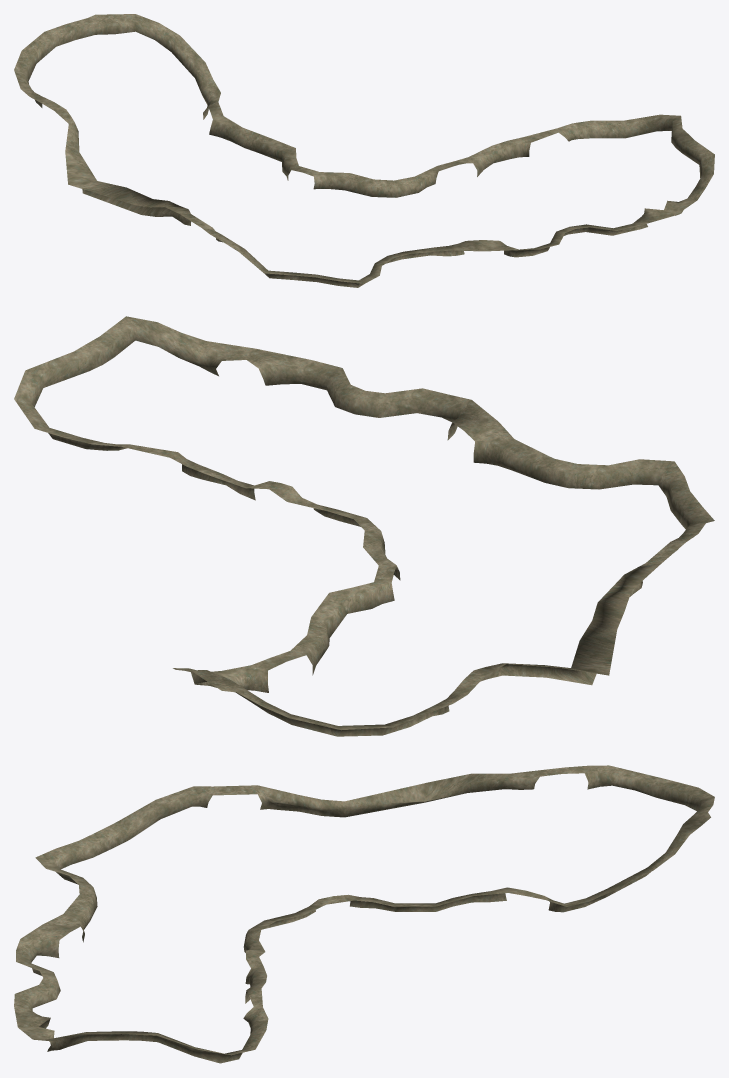
The model's file is EKH_JAIL_PS_JA_PATH_TRIM9383837.fbx.
3 views of the same model, one above another, from view 1: azimuth 30°, elevation 25°; view 2: azimuth 150°, elevation 25°; view 3: azimuth 270°, elevation 25° (orthographic). The views are drawn at different scales.
Parts seen in each view (by area): view 1: EKH_JAIL_PS_JA_PATH_TRIM9383837; view 2: EKH_JAIL_PS_JA_PATH_TRIM9383837; view 3: EKH_JAIL_PS_JA_PATH_TRIM9383837.
Boxes of the visible parts, bbox=[...] form: EKH_JAIL_PS_JA_PATH_TRIM9383837: bbox=[14, 14, 714, 287]; EKH_JAIL_PS_JA_PATH_TRIM9383837: bbox=[14, 316, 714, 736]; EKH_JAIL_PS_JA_PATH_TRIM9383837: bbox=[14, 765, 714, 1063].
Size of the model in its own units: 268792 by 31414 by 277383.
1 material, 1 textured.
